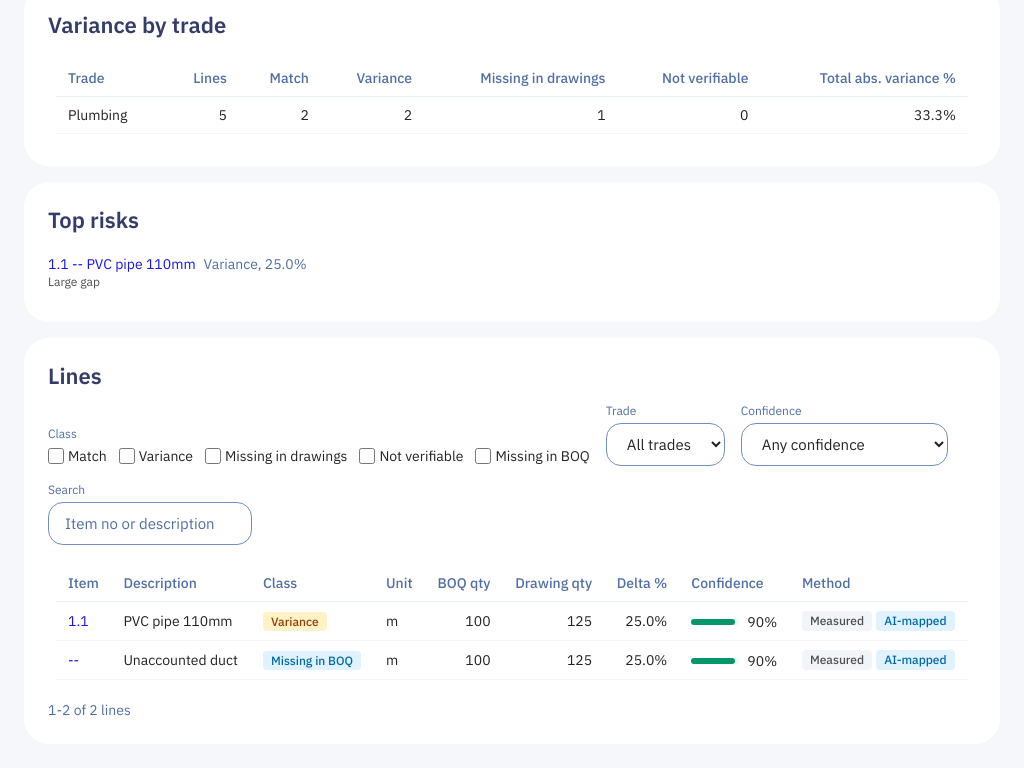
Scenario: VerificationPage › shows the server message when a decision is rejected
(page scrolled)
Click the button named "Open line 1.1".
click(78, 621)  # box left=68, top=611, right=89, bottom=631
(page scrolled)
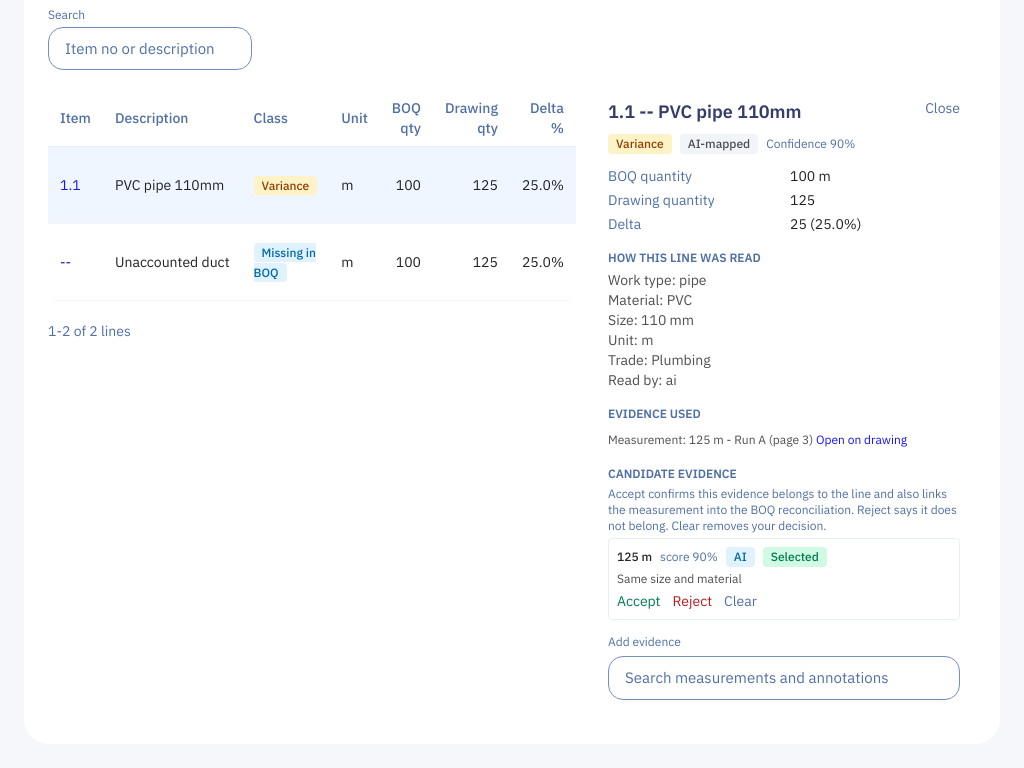
Click the button named "Reject m:abc-123".
click(692, 601)  # box left=672, top=591, right=712, bottom=611
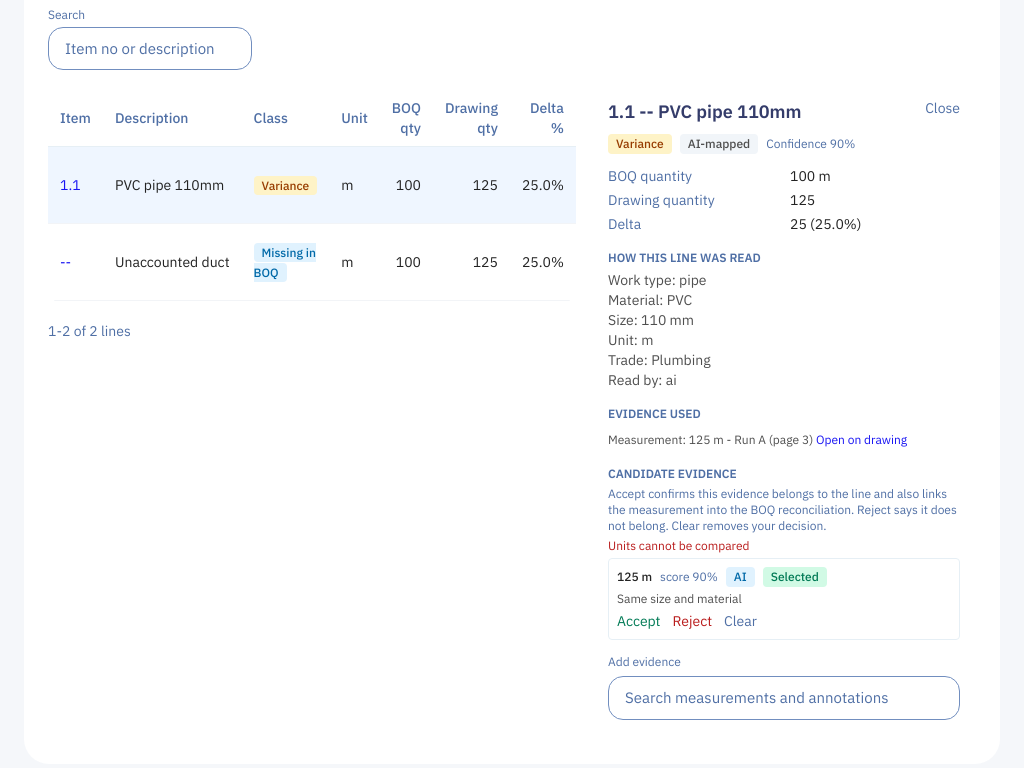
Expected: the message reads "Units cannot be compared", left=608, top=538, right=750, bottom=553
